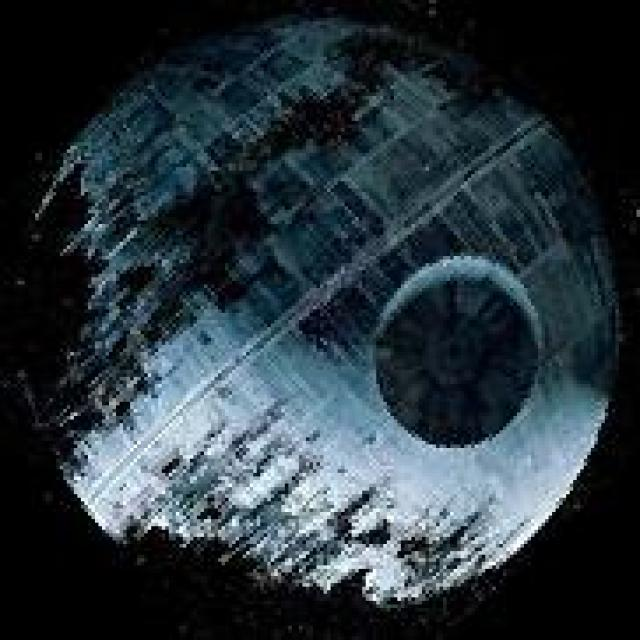Death Star: (21, 0, 630, 615)
